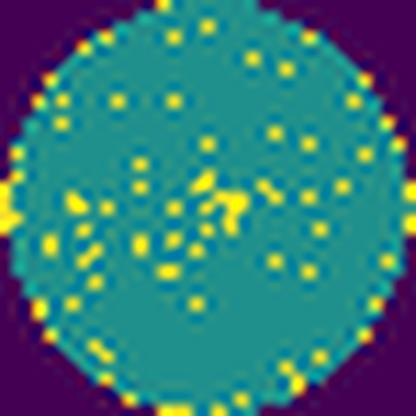Center: (188, 166, 255, 243)
